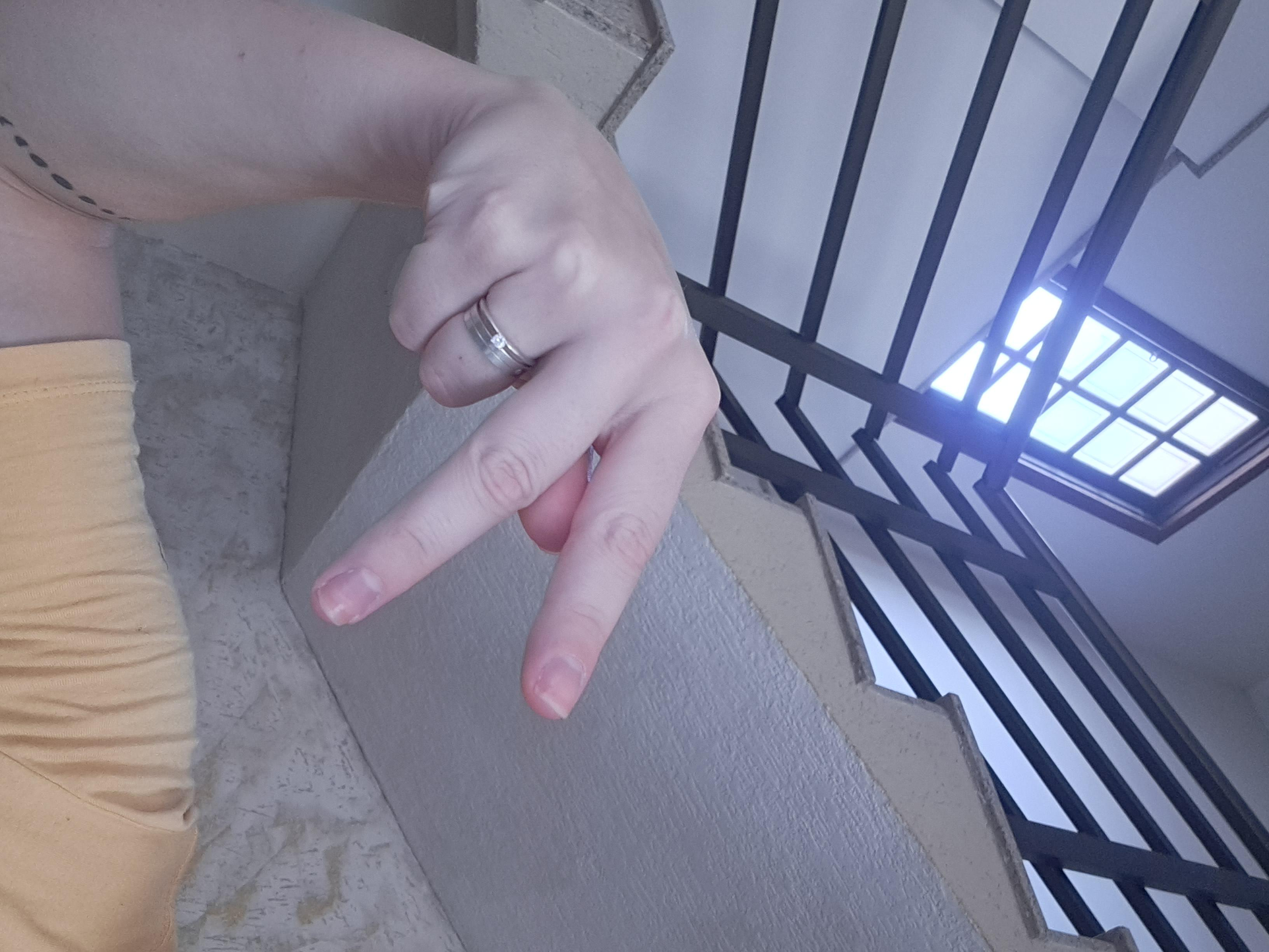P: (119, 403, 995, 738)
